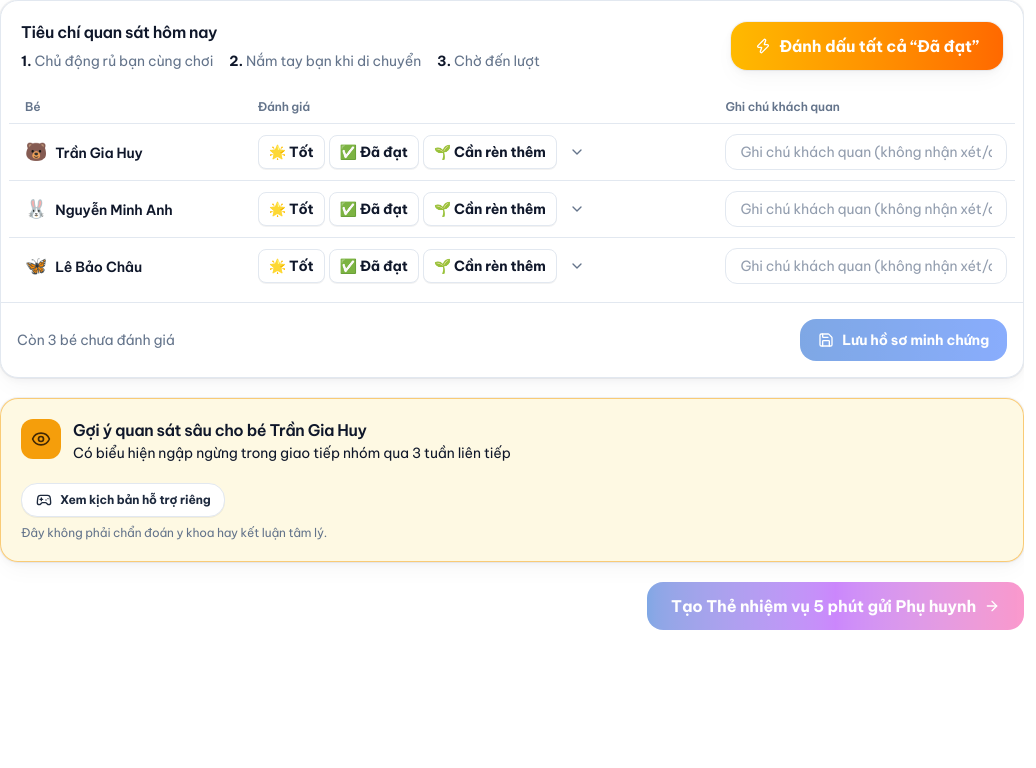
Test: ChecklistTable (Màn hình 5 – 30 giây) › gửi đúng payload (rating tổng + từng tiêu chí + ghi chú) và hiện cảnh báo trả về
The width and height of the screenshot is (1036, 768).
Click the button "Đánh dấu tất cả “Đã đạt”" at [867, 46], box left=732, top=22, right=1003, bottom=70
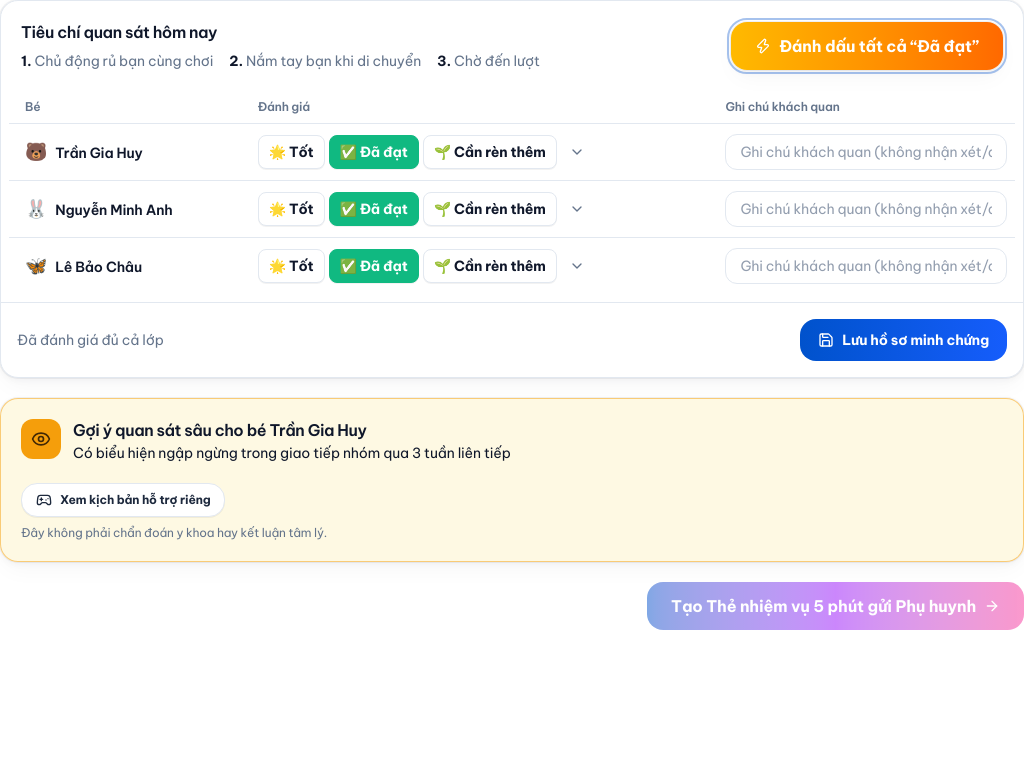
Click the 1st button "🌱 Cần rèn thêm" at [490, 152], box left=423, top=135, right=556, bottom=169
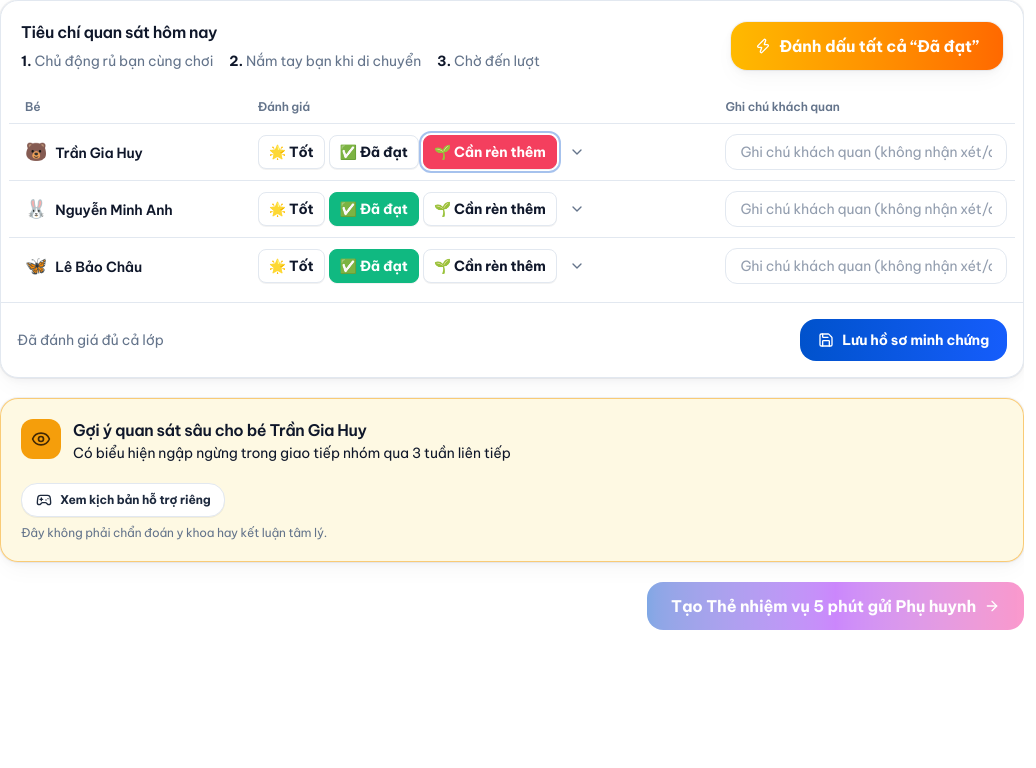
Type "Bé đứng quan sát" into the 1st field with placeholder "Ghi chú khách quan (không nhận xét/dán nhãn)" at [866, 152], box left=725, top=134, right=1007, bottom=170
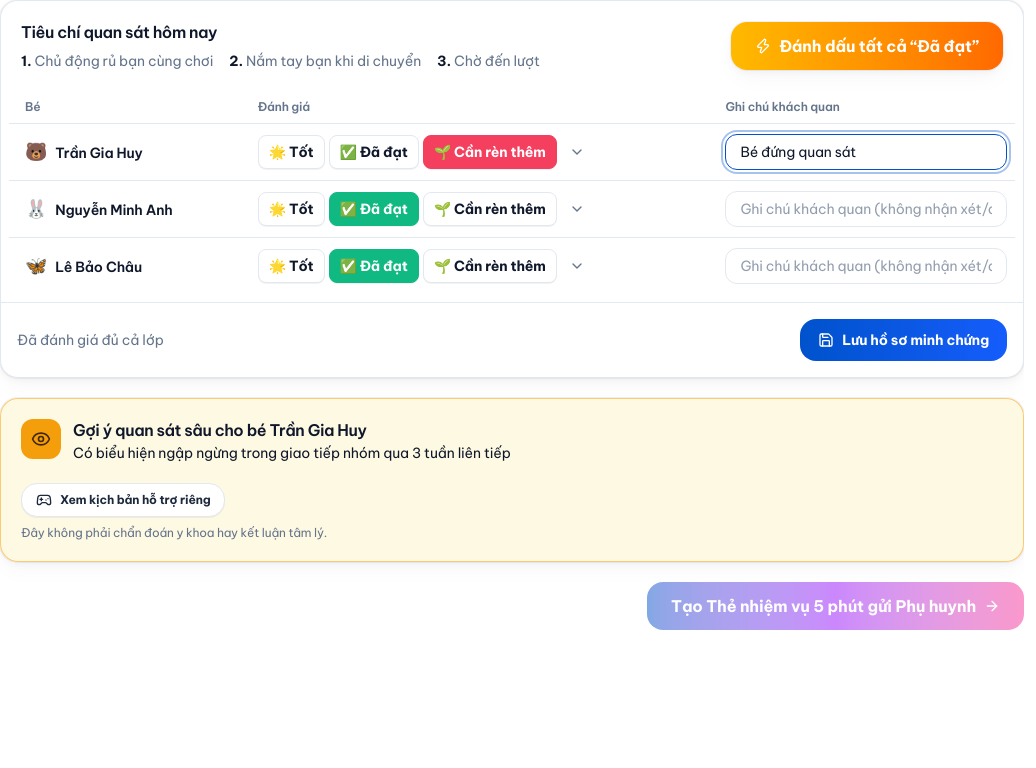
Click the button "Lưu hồ sơ minh chứng" at [904, 340], box left=800, top=319, right=1007, bottom=361
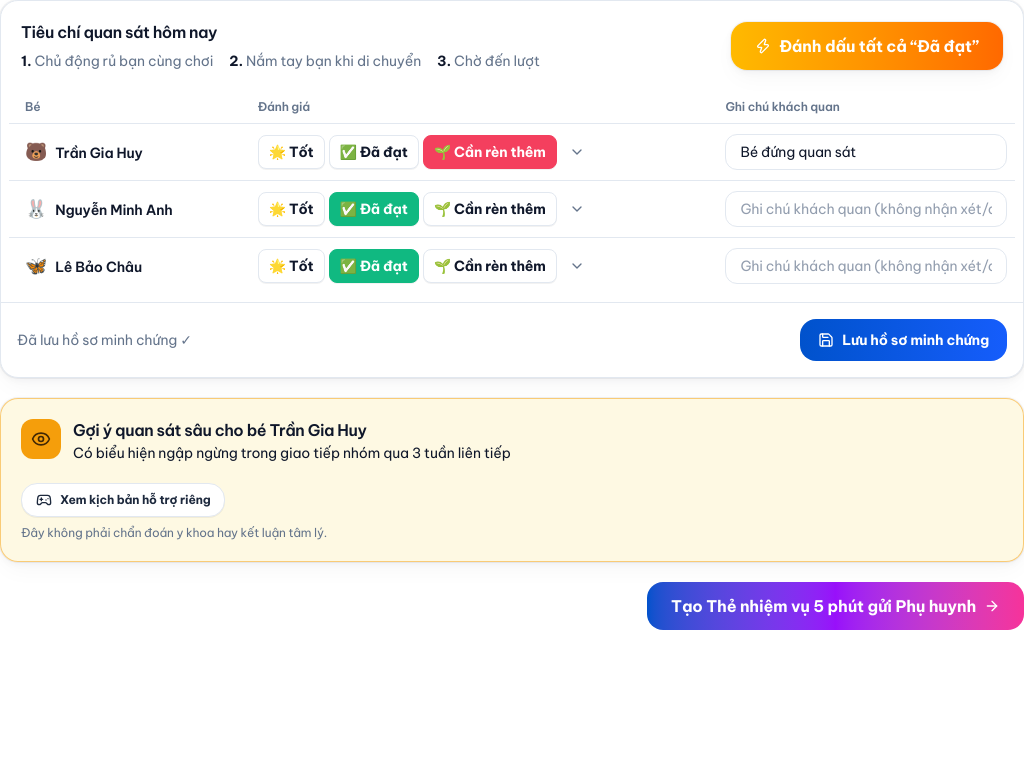
Expected: the heading "Gợi ý quan sát sâu cho bé Trần Gia Huy" is shown, left=73, top=420, right=366, bottom=440
Expected: the button "Tạo Thẻ nhiệm vụ 5 phút gửi Phụ huynh" is enabled, left=647, top=582, right=1024, bottom=630
